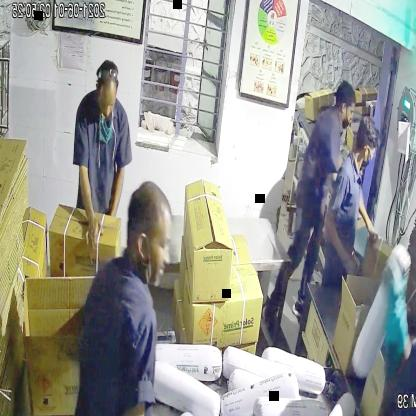no_goggles: (133, 228, 174, 262), (96, 89, 121, 112)
